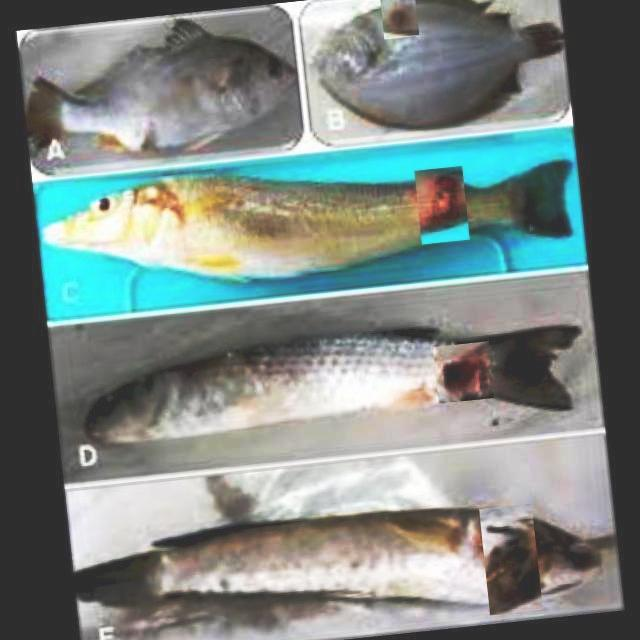Aeromonas Septicemia: (42, 161, 575, 283), (80, 328, 581, 448), (80, 501, 604, 614), (306, 2, 554, 123)
